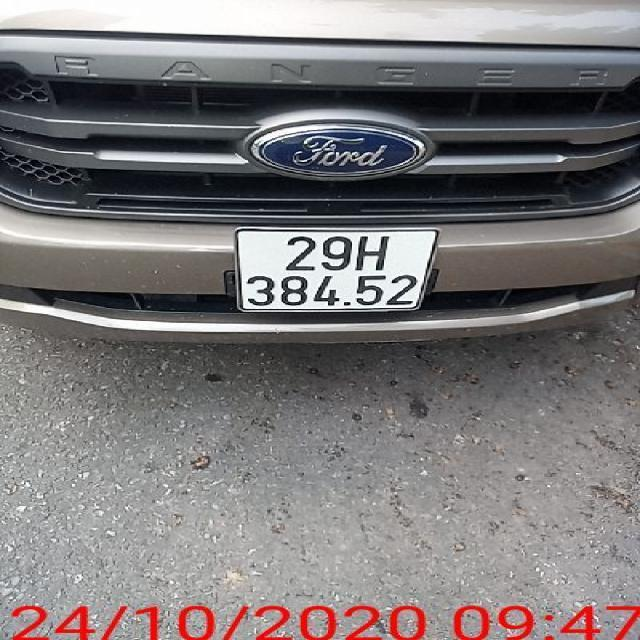bien_so_oto: (232, 226, 440, 314)
